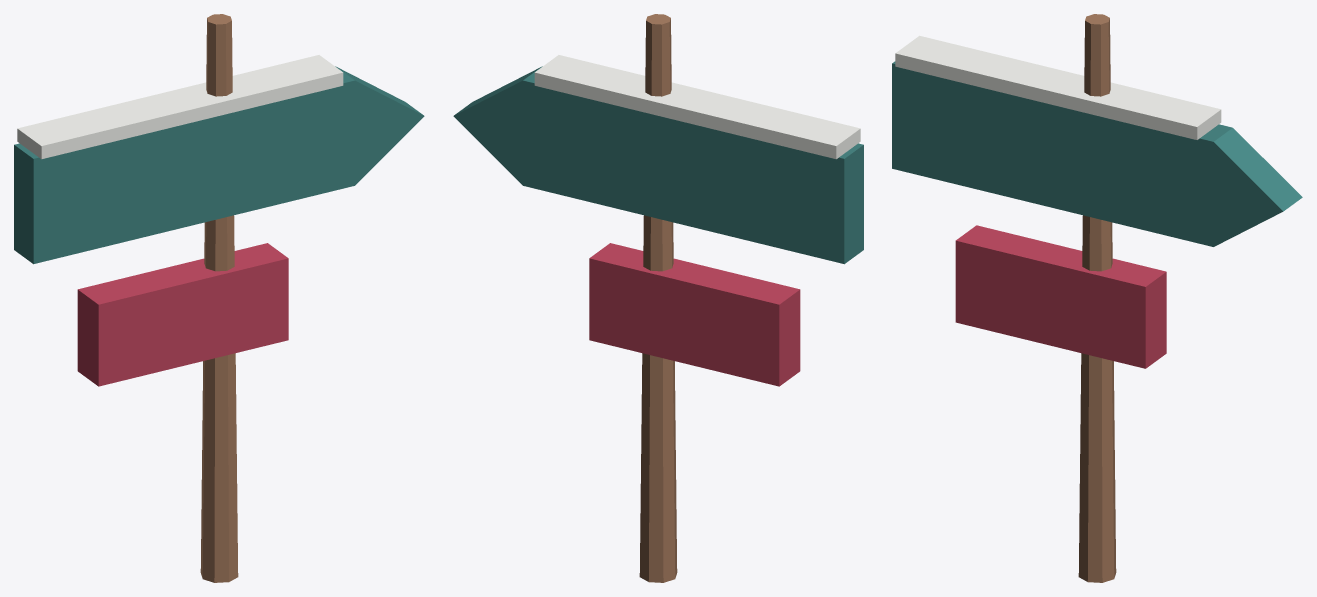
The model's file is trailsign.glb.
3 renders of one model, left to right at view 1: azimuth 30°, elevation 25°; view 2: azimuth 150°, elevation 25°; view 3: azimuth 330°, elevation 25°, orthographic.
Visible parts, largest first — view 1: winter-trail-sign-spruce, winter-trail-sign-red, winter-trail-sign-wood, winter-trail-sign-snow; view 2: winter-trail-sign-spruce, winter-trail-sign-red, winter-trail-sign-wood, winter-trail-sign-snow; view 3: winter-trail-sign-spruce, winter-trail-sign-red, winter-trail-sign-wood, winter-trail-sign-snow.
Part boxes in pixels (left/top/right/bottom): winter-trail-sign-spruce: left=14, top=66, right=424, bottom=264; winter-trail-sign-red: left=77, top=243, right=288, bottom=386; winter-trail-sign-wood: left=200, top=14, right=238, bottom=582; winter-trail-sign-snow: left=17, top=55, right=343, bottom=159; winter-trail-sign-spruce: left=453, top=66, right=863, bottom=264; winter-trail-sign-red: left=589, top=243, right=800, bottom=386; winter-trail-sign-wood: left=639, top=14, right=677, bottom=582; winter-trail-sign-snow: left=534, top=55, right=860, bottom=159; winter-trail-sign-spruce: left=892, top=61, right=1302, bottom=246; winter-trail-sign-red: left=955, top=225, right=1166, bottom=368; winter-trail-sign-wood: left=1078, top=14, right=1116, bottom=582; winter-trail-sign-snow: left=895, top=35, right=1221, bottom=139.
Size of the model in its own units: 1.4 by 1.9 by 0.15.
